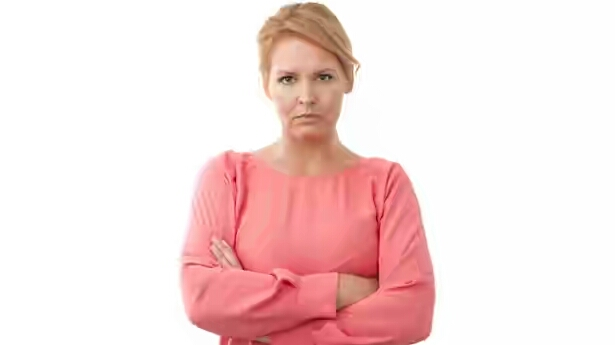angry: (268, 43, 348, 145)
